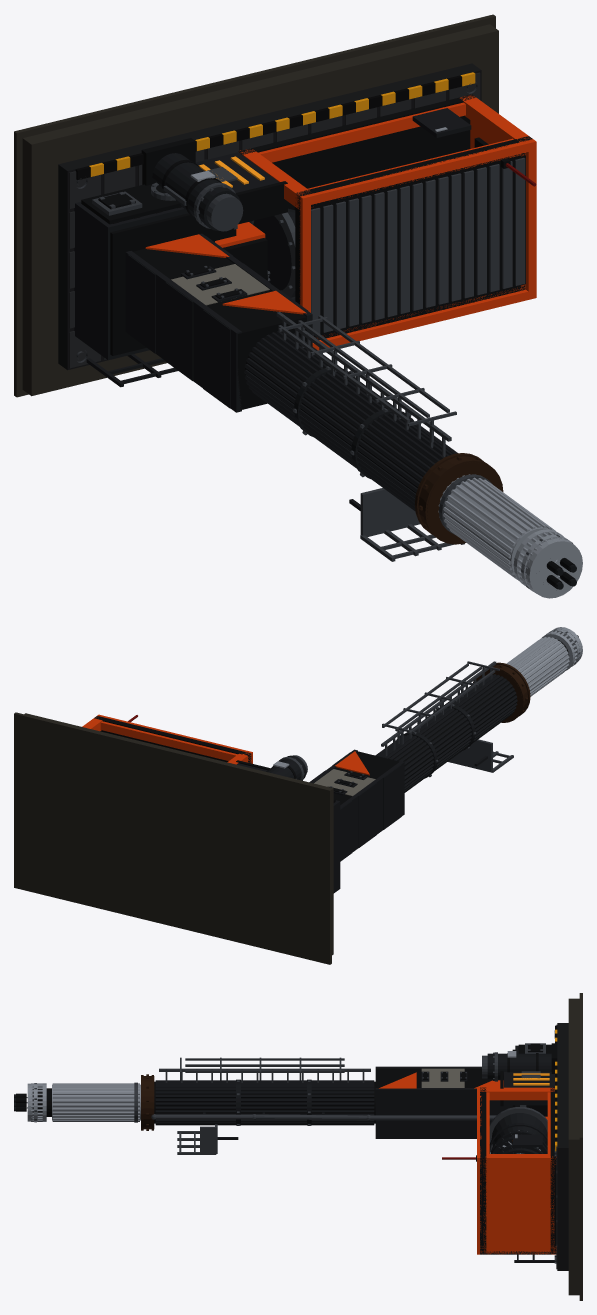
The model's file is tower_rig.obj.
3 views of the same model, one above another, from view 1: azimuth 30°, elevation 25°; view 2: azimuth 150°, elevation 25°; view 3: azimuth 270°, elevation 25° (orthographic). The views are drawn at different scales.
Visible parts, largest first — view 1: foot_slab, mu_lid, mu_floor, foot_edge, deck_plate, tw_plinth, tw_base_block, tw_plinth_top, tw_base_edge_1, tw_col, mu_ftop_f, mu_beam_-1_-1 (+58 smaller); view 2: foot_slab, foot_edge, tw_col, mu_beam_1_-1, tw_base_edge_1, mu_lid, tw_base_rib1_2, tw_base_rib1_1, tw_platform, tw_upper, tw_base_block, tw_plinth (+13 smaller); view 3: mu_left_panel, foot_slab, deck_plate, tw_col, tw_base_edge_-1, tw_base_rib-1_1, tw_base_rib-1_2, tw_upper, foot_edge, tank, mu_lid, mu_floor (+32 smaller).
Boxes of the visible parts, x1,y1,x2,y2 form: foot_slab: [22, 24, 498, 396]; mu_lid: [295, 136, 532, 339]; mu_floor: [238, 94, 475, 209]; foot_edge: [14, 14, 495, 397]; deck_plate: [58, 63, 481, 370]; tw_plinth: [74, 202, 188, 360]; tw_base_block: [133, 248, 306, 409]; tw_plinth_top: [110, 213, 214, 355]; tw_base_edge_1: [125, 251, 241, 412]; tw_col: [245, 332, 441, 497]; mu_ftop_f: [300, 139, 536, 206]; mu_beam_-1_-1: [258, 102, 465, 162]; foot_slab: [18, 713, 333, 959]; foot_edge: [14, 712, 331, 964]; tw_col: [384, 675, 516, 783]; mu_beam_1_-1: [100, 721, 237, 760]; tw_base_edge_1: [340, 761, 404, 852]; mu_lid: [94, 716, 251, 763]; tw_base_rib1_2: [383, 764, 401, 829]; tw_base_rib1_1: [358, 783, 376, 847]; tw_platform: [448, 739, 492, 772]; tw_upper: [512, 637, 568, 691]; tw_base_block: [333, 751, 399, 804]; tw_plinth: [333, 800, 340, 893]; mu_left_panel: [483, 1156, 554, 1254]; foot_slab: [568, 998, 579, 1295]; deck_plate: [557, 1023, 568, 1270]; tw_col: [154, 1081, 375, 1123]; tw_base_edge_-1: [375, 1088, 512, 1138]; tw_base_rib-1_1: [428, 1090, 462, 1138]; tw_base_rib-1_2: [382, 1090, 415, 1138]; tw_upper: [52, 1084, 140, 1120]; foot_edge: [579, 993, 582, 1300]; tank: [487, 1053, 551, 1080]; mu_lid: [480, 1087, 486, 1254]; mu_floor: [550, 1087, 556, 1254].
Bounding box in the file's own units: 8.98 × 4.72 × 14.93.
